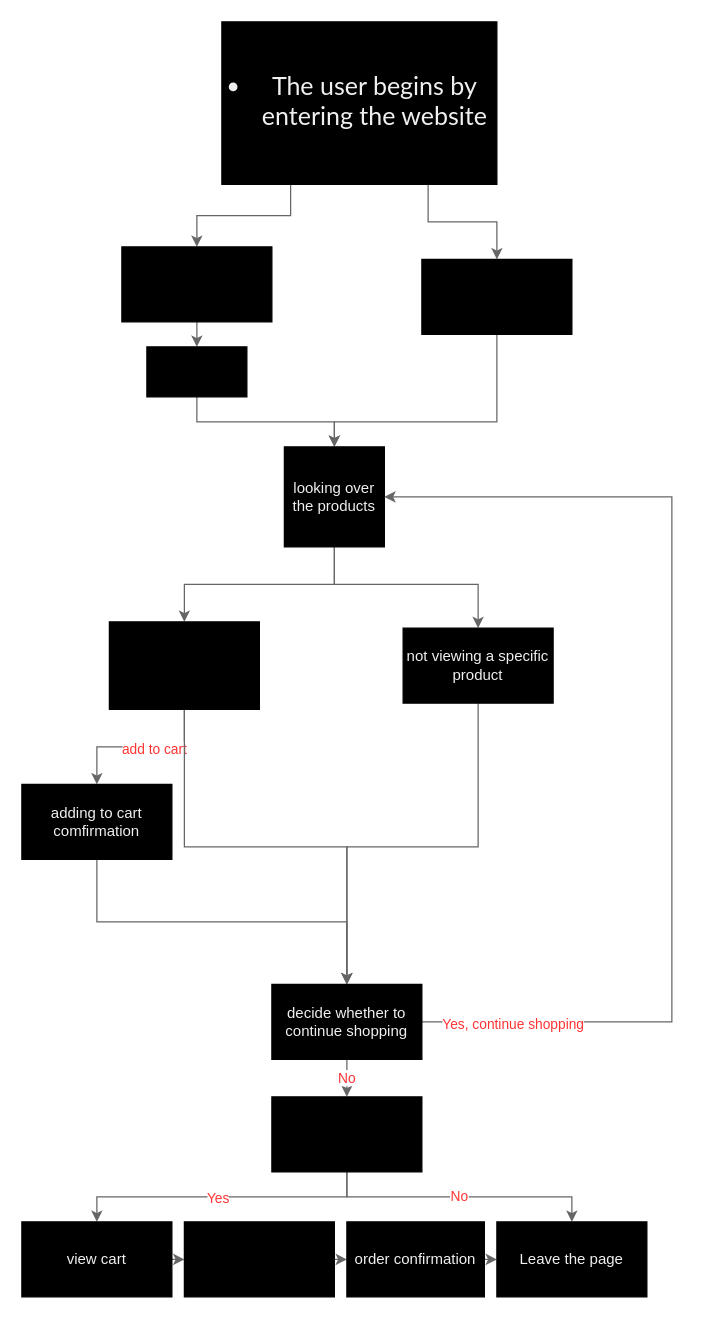
This 704x1319 diagram has some shape labels left out. The centre of each missing label's shape, as x and y in pixels:
"decide whether to check out" goes at pixel 346 1134.
"provide input" goes at pixel 196 371.
"searching for a product" goes at pixel 196 284.
"view payment" goes at pixel 258 1259.
"viewing a specific product" goes at pixel 183 665.
